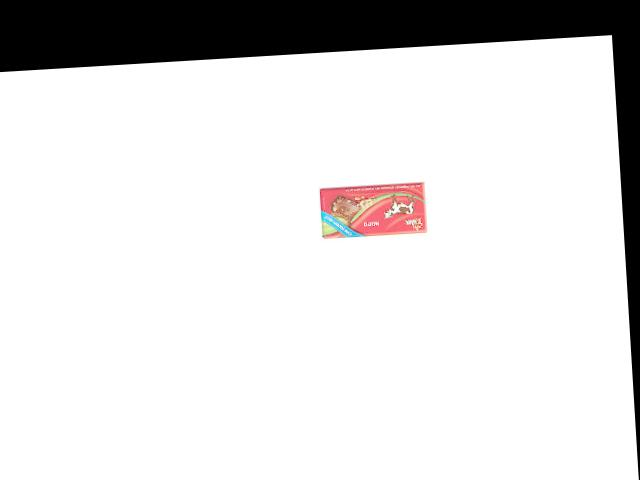chocolate: (320, 182, 432, 239)
